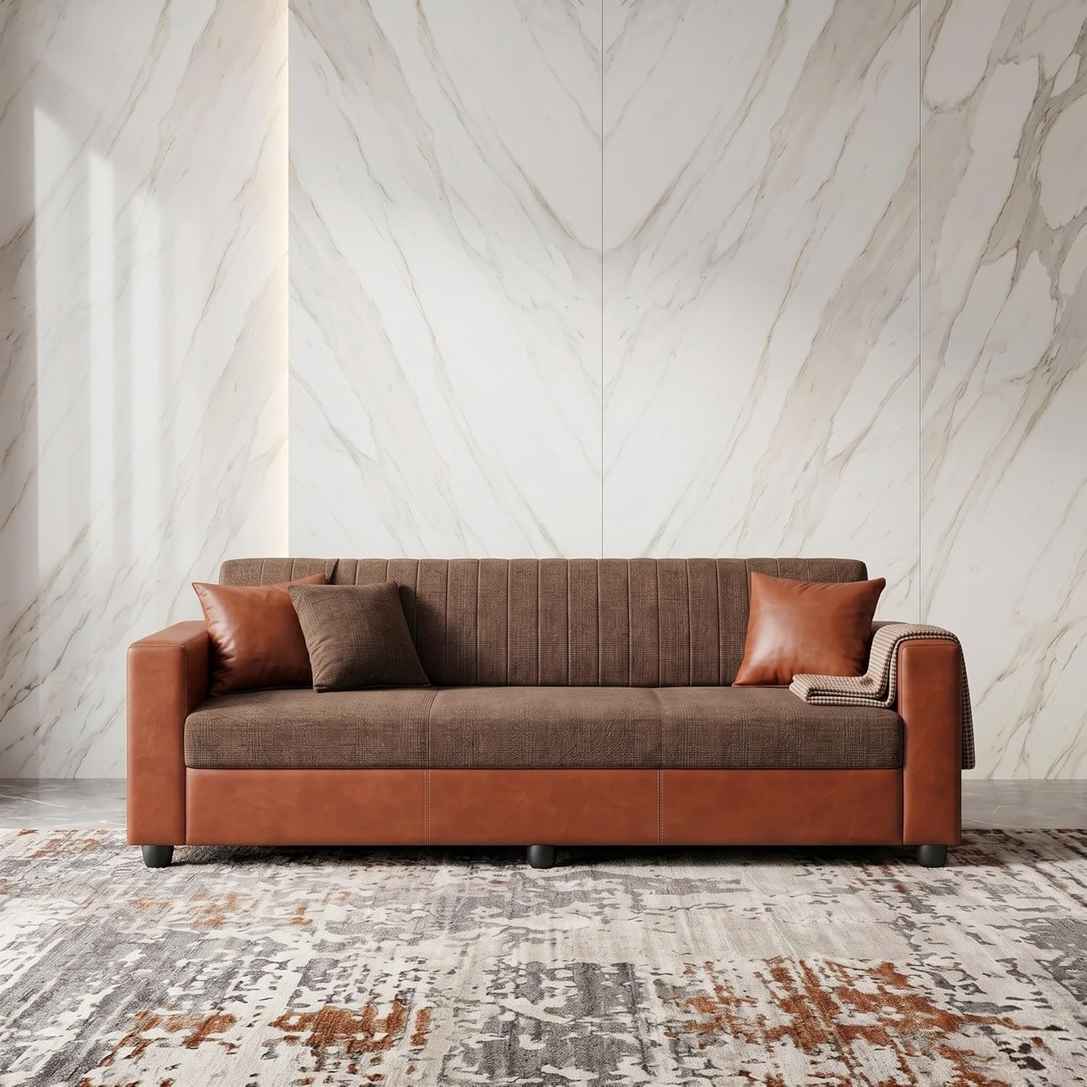3seatersofa: (128, 558, 972, 866)
backrest: (225, 558, 870, 686)
base: (186, 771, 903, 853)
leftarmrest: (887, 616, 959, 848)
leg: (531, 845, 558, 874), (145, 845, 174, 870), (918, 848, 947, 872)
pillow: (193, 580, 428, 698), (737, 575, 882, 686)
rightarmrest: (130, 618, 210, 841)
seat: (179, 679, 896, 768)
